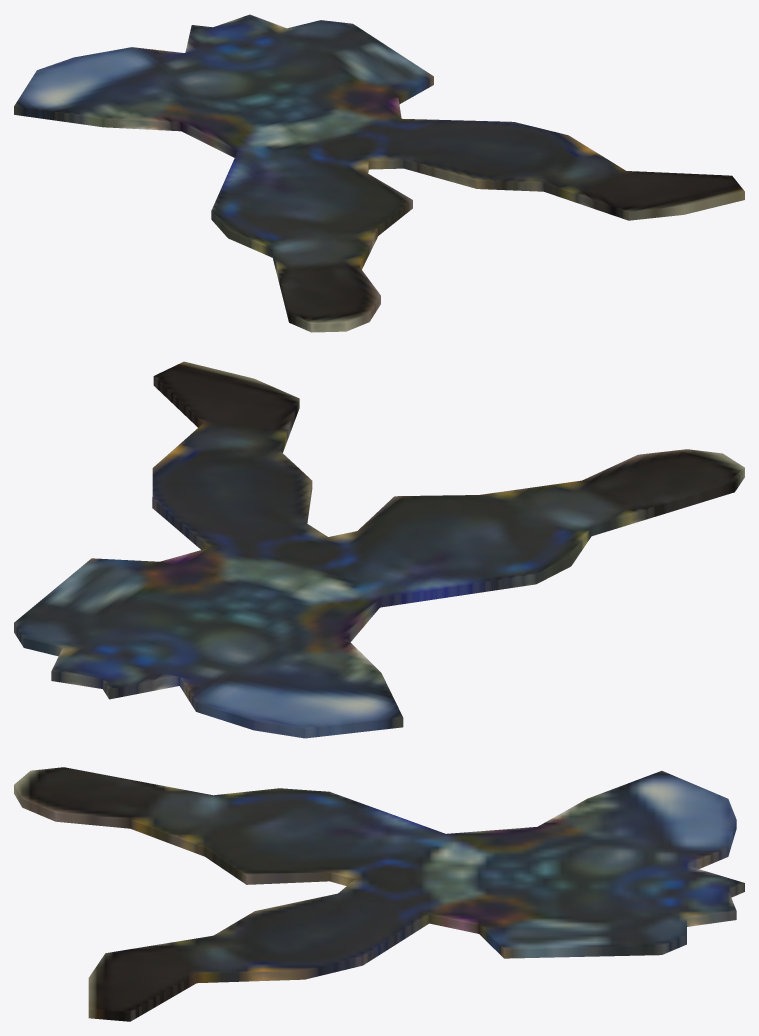
File: SatThuBoxing.glb
3 views of the same model, one above another, from view 1: azimuth 30°, elevation 25°; view 2: azimuth 150°, elevation 25°; view 3: azimuth 270°, elevation 25° (orthographic). The views are drawn at different scales.
Visible parts, largest first — view 1: SatThuBoxing; view 2: SatThuBoxing; view 3: SatThuBoxing.
Part boxes in pixels (x1,y1,x2,y2): SatThuBoxing: [14, 14, 744, 332]; SatThuBoxing: [14, 361, 744, 738]; SatThuBoxing: [14, 767, 744, 1021].
Size of the model in its own units: 0.2964 by 0.005 by 0.3726.
Materials: 1 (1 with a texture image).
